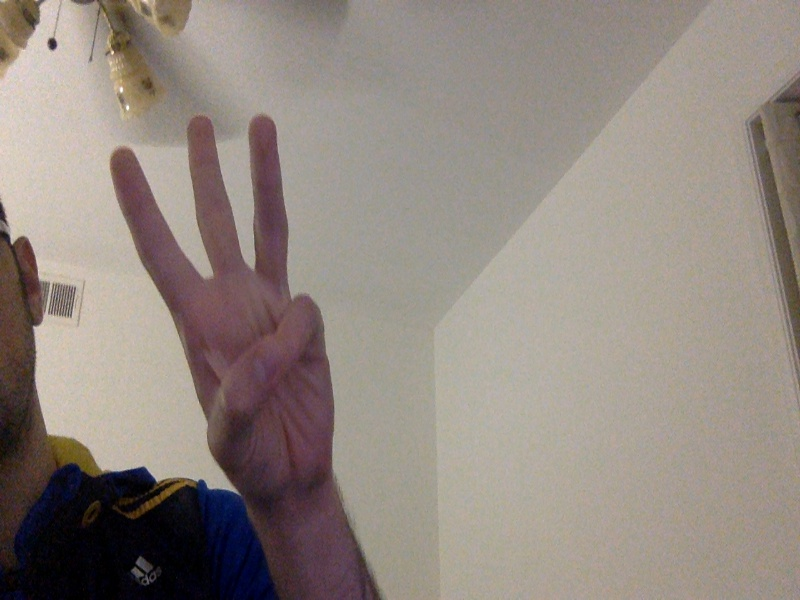3-hand: (110, 115, 335, 497)
